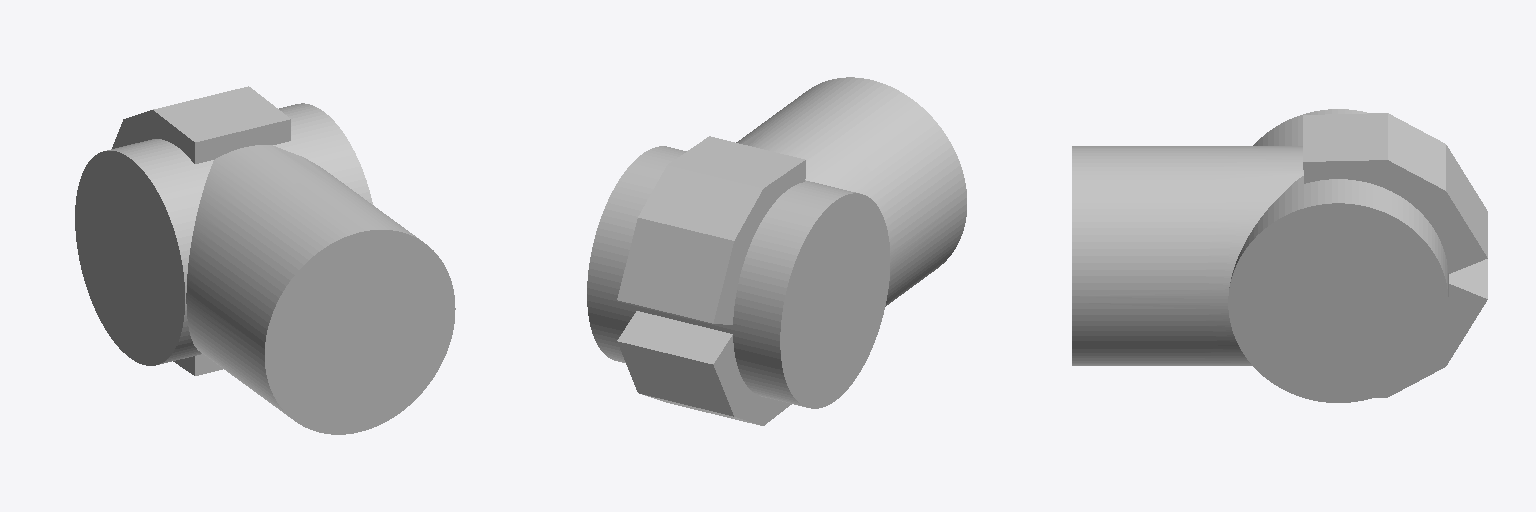
3 renders of one model, left to right at view 1: azimuth 30°, elevation 25°; view 2: azimuth 150°, elevation 25°; view 3: azimuth 270°, elevation 25°, orthographic.
Parts seen in each view (by area): view 1: link_21; view 2: link_21; view 3: link_21.
Part boxes in pixels (x1,y1,x2,y2): link_21: (75, 86, 455, 434); link_21: (587, 77, 966, 425); link_21: (1072, 109, 1487, 402).
Size of the model in its own units: 42.5 by 49.97 by 79.26.